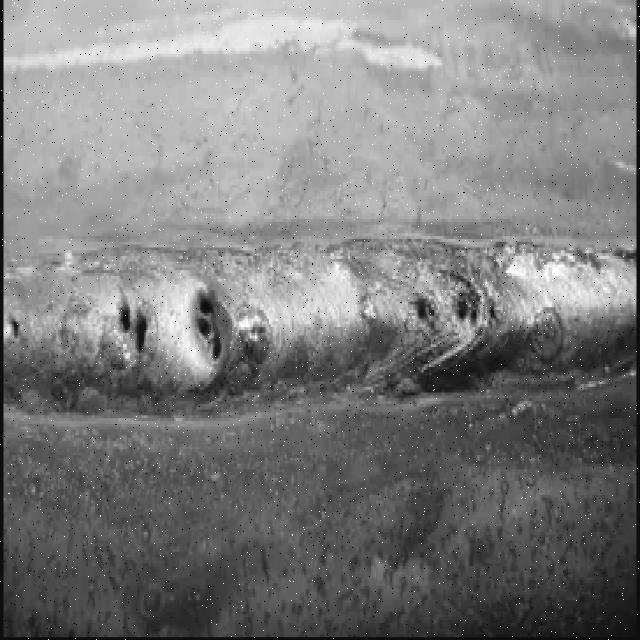Porosity: (109, 287, 152, 365), (190, 282, 227, 372), (448, 287, 498, 331), (406, 284, 443, 333), (3, 312, 25, 345)
